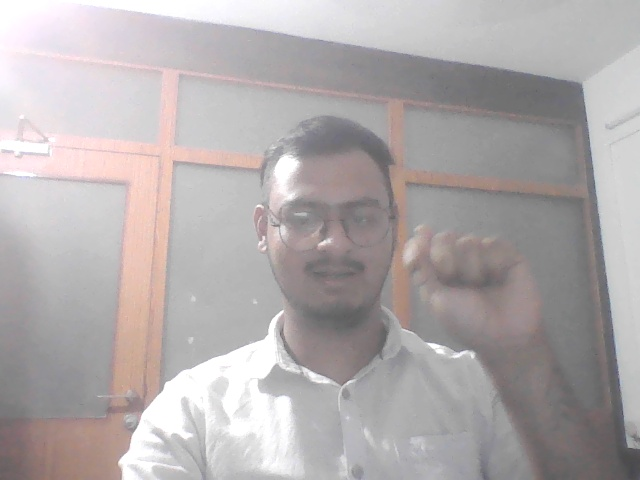Toilet: (396, 219, 569, 367)
